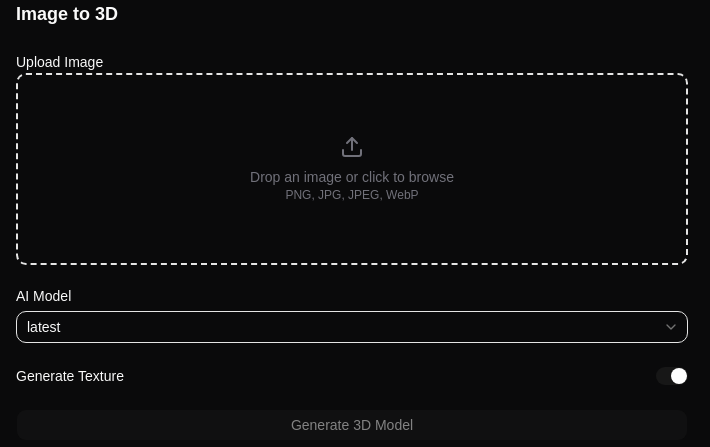
ImageTo3DPanel — TC-GEN-03 › TC-GEN-03-03: model selector is visible and offers meshy-7 and latest options
Open the dropdown and verify meshy-7 and latest are available
Click the dropdown named "AI Model" at (44, 327), box [16, 311, 688, 343]
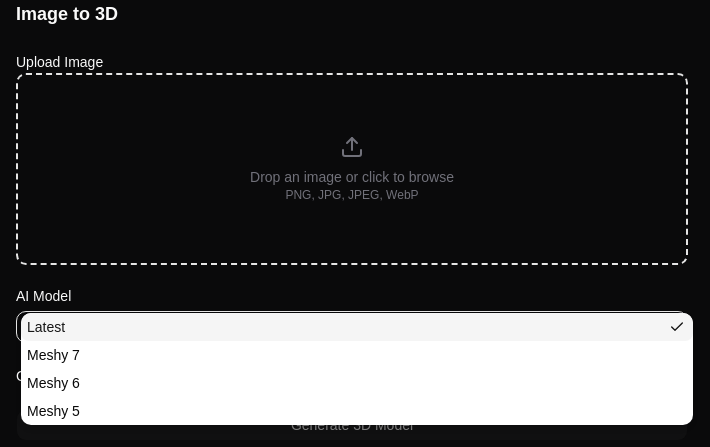
Result: the text "Meshy 7" is shown at [27, 347, 80, 363]
Result: the text "Latest" is shown at [27, 319, 65, 335]
